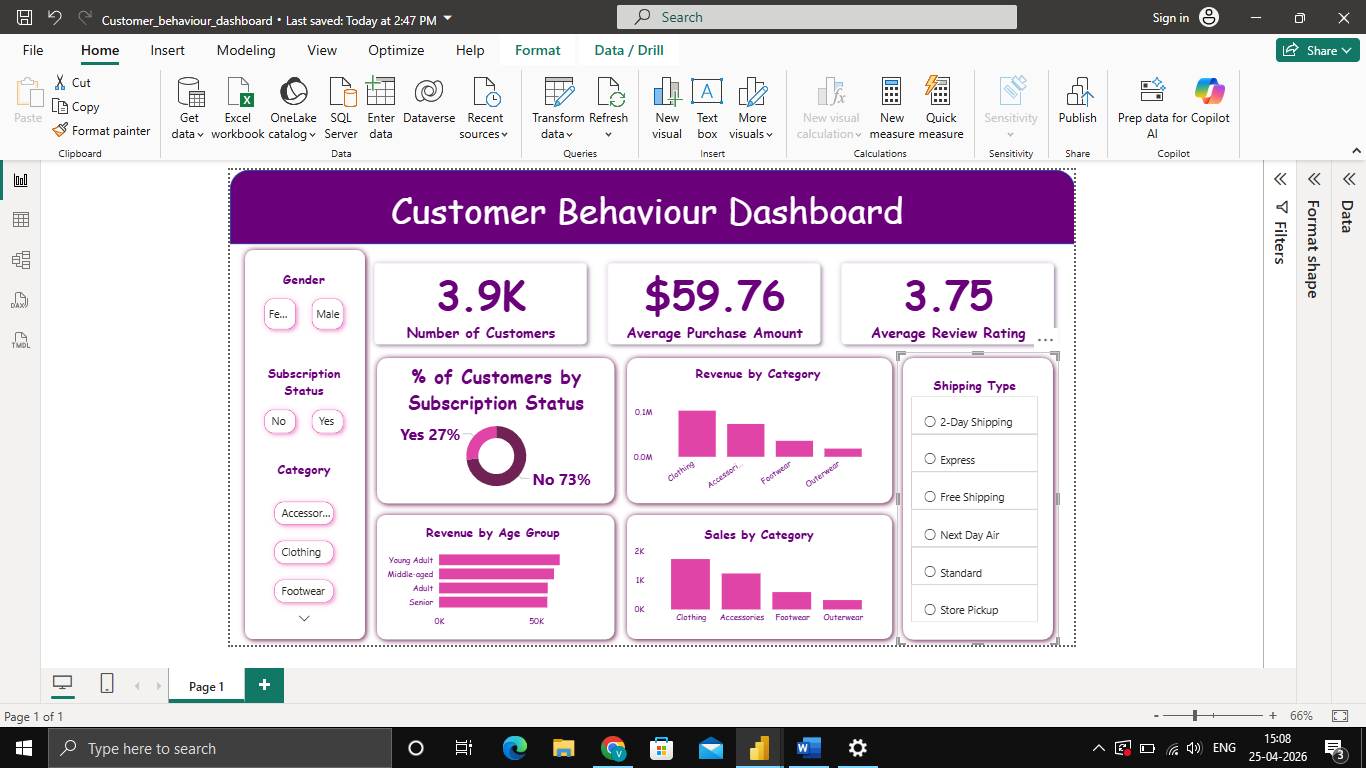

The dashboard page shown, as its layout file describes it:
{"tool":"powerbi","page":{"name":"Page 1","canvas":[1280,720],"ordinal":0},"visuals":[{"type":"cardVisual","fields":{"Data":["public customer.Number of Customers","public customer.Average Purchase Amount","public customer.Average Review Rating"]},"box":[189.8,112.5,1090.2,181.4],"z":0},{"type":"shape","box":[0,0,1280,112.5],"z":1000},{"type":"textbox","box":[0,17.9,1280.4,94.6],"z":2000},{"type":"shape","box":[213.3,275.5,378,238.5],"z":3000},{"type":"donutChart","title":"% of Customers by Subscription Status","fields":{"Category":["public customer.subscription_status"],"Y":["CountNonNull(public customer.customer_id)"]},"box":[240,292,328,204],"z":4000},{"type":"shape","box":[592,276,420,238],"z":5000},{"type":"shape","box":[592,514,420,206],"z":6000},{"type":"clusteredColumnChart","title":"Revenue by Category","fields":{"Y":["Sum(public customer.purchase_amount)"],"Category":["public customer.category"]},"box":[606.4,294,388,201.6],"z":7000},{"type":"clusteredColumnChart","title":"Sales by Category","fields":{"Category":["public customer.category"],"Y":["CountNonNull(public customer.customer_id)"]},"box":[608,538,388,158],"z":8000},{"type":"shape","box":[14,112,200,608],"z":9000},{"type":"advancedSlicerVisual","fields":{"Values":["public customer.gender"]},"box":[35.3,151.2,154.5,107.5],"z":10000},{"type":"advancedSlicerVisual","fields":{"Values":["public customer.subscription_status"]},"box":[35.3,294,154.5,122.6],"z":11000},{"type":"advancedSlicerVisual","fields":{"Values":["public customer.category"]},"box":[50.4,440.1,124.3,255.3],"z":12000},{"type":"shape","box":[1011.2,275.5,245.2,445.1],"z":13000},{"type":"listSlicer","fields":{"Values":["public customer.shipping_type"]},"box":[1027.7,312.8,202.1,383],"z":14000},{"type":"shape","box":[213.3,514,378,206.6],"z":14001},{"type":"clusteredBarChart","fields":{"Y":["Sum(public customer.purchase_amount)"],"Category":["public customer.age_group"]},"box":[228.5,534.2,339.3,166.3],"z":14002}]}

Visuals, with their boxes on the page's 1280x720 design canvas (x1, y1, x2, y2). These are canvas units, not pixel positions in the 1366x768 screenshot, which may show the page scaled, cropped or inside an application window:
cardVisual - public customer.Number of Customers x public customer.Average Purchase Amount: 190 112 1280 294
shape: 0 0 1280 112
textbox: 0 18 1280 112
shape: 213 276 591 514
"% of Customers by Subscription Status" donutChart: 240 292 568 496
shape: 592 276 1012 514
shape: 592 514 1012 720
"Revenue by Category" clusteredColumnChart: 606 294 994 496
"Sales by Category" clusteredColumnChart: 608 538 996 696
shape: 14 112 214 720
advancedSlicerVisual - public customer.gender: 35 151 190 259
advancedSlicerVisual - public customer.subscription_status: 35 294 190 417
advancedSlicerVisual - public customer.category: 50 440 175 695
shape: 1011 276 1256 721
listSlicer - public customer.shipping_type: 1028 313 1230 696
shape: 213 514 591 721
clusteredBarChart - Sum(public customer.purchase_amount) x public customer.age_group: 228 534 568 700
